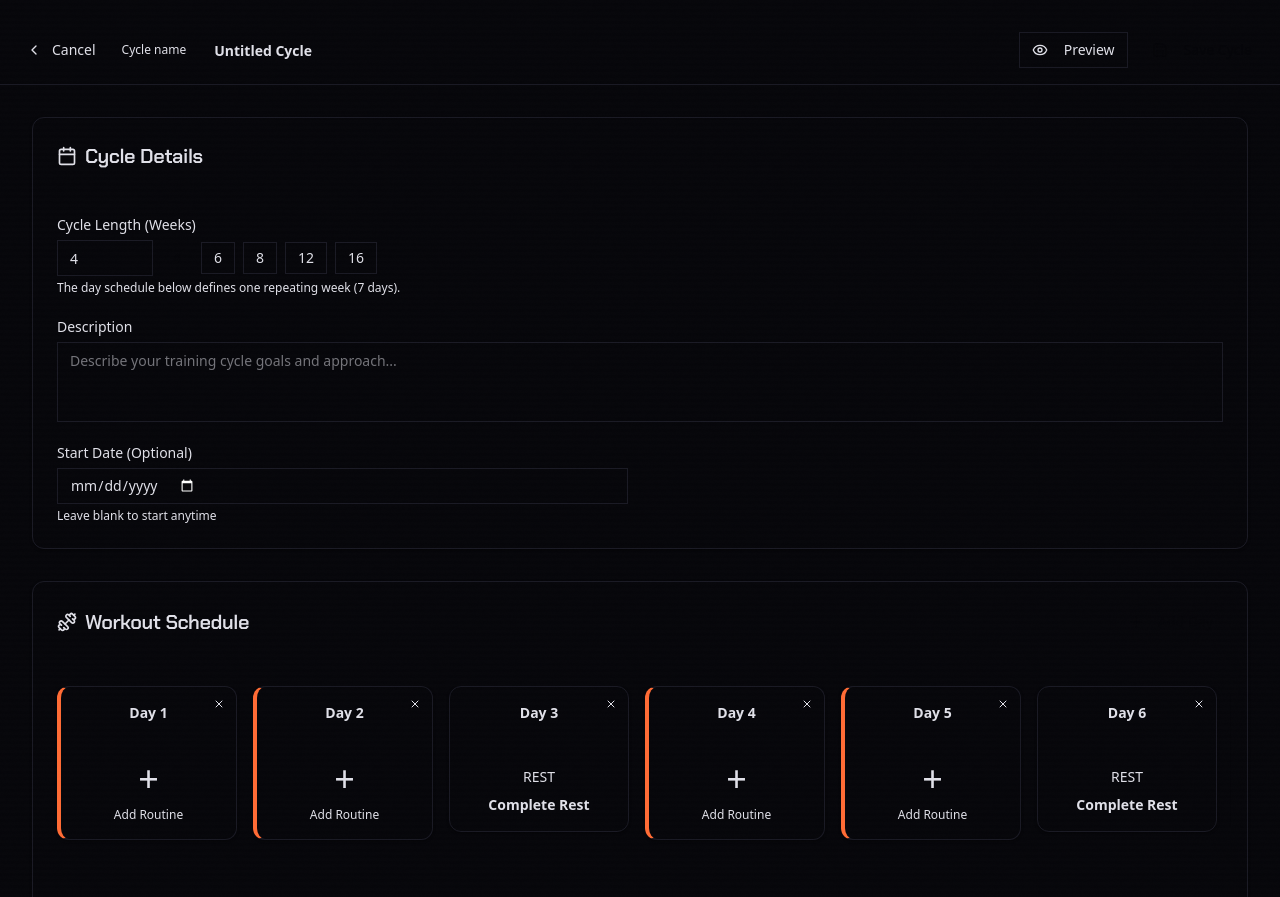
CycleBuilder › shows unsaved changes dialog when Cancel is clicked with changes
Make a change
In the field showing "Untitled Cycle": (426, 50) [202,32,650,68], type "x"
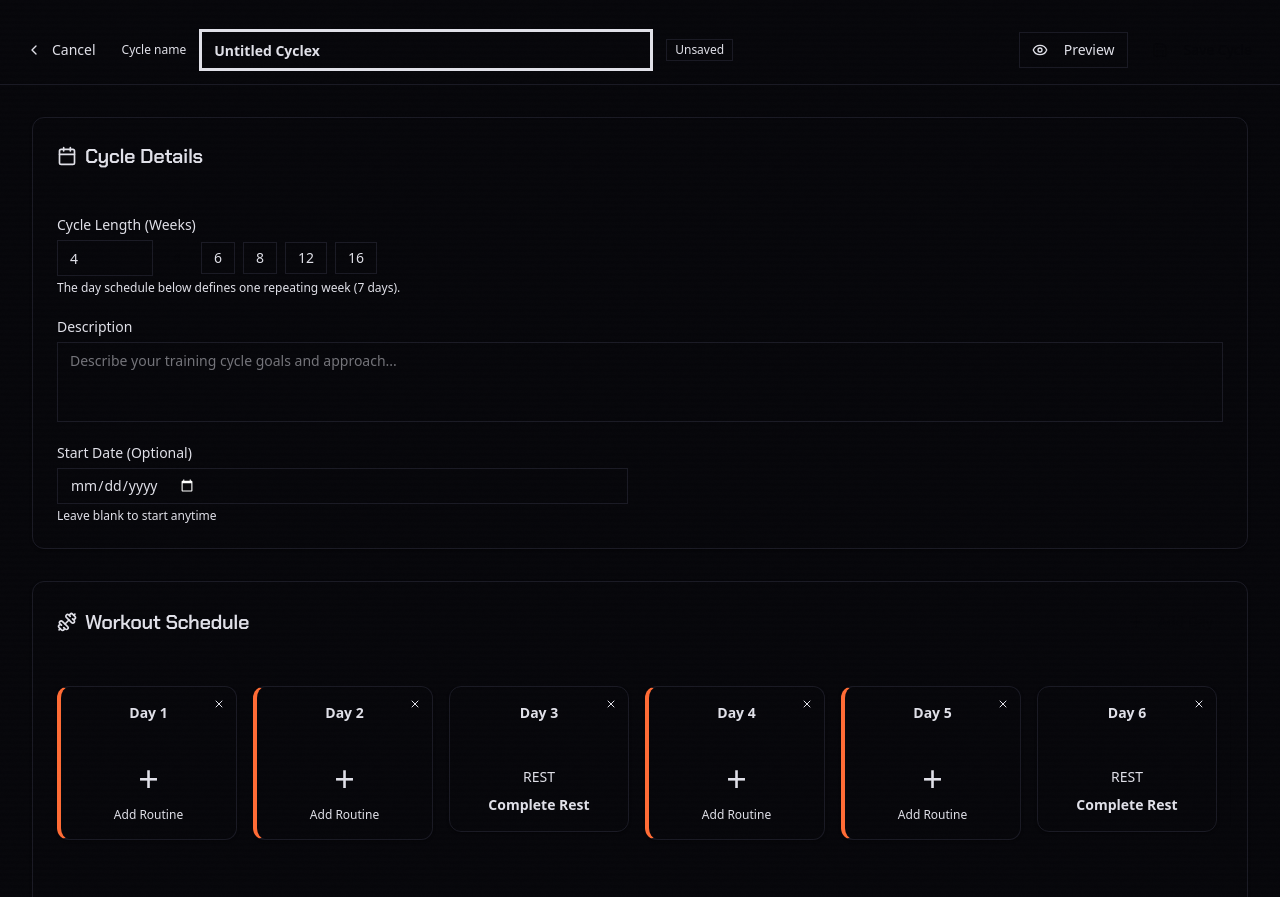
Click the button "Cancel": (61, 50) [16,34,106,66]
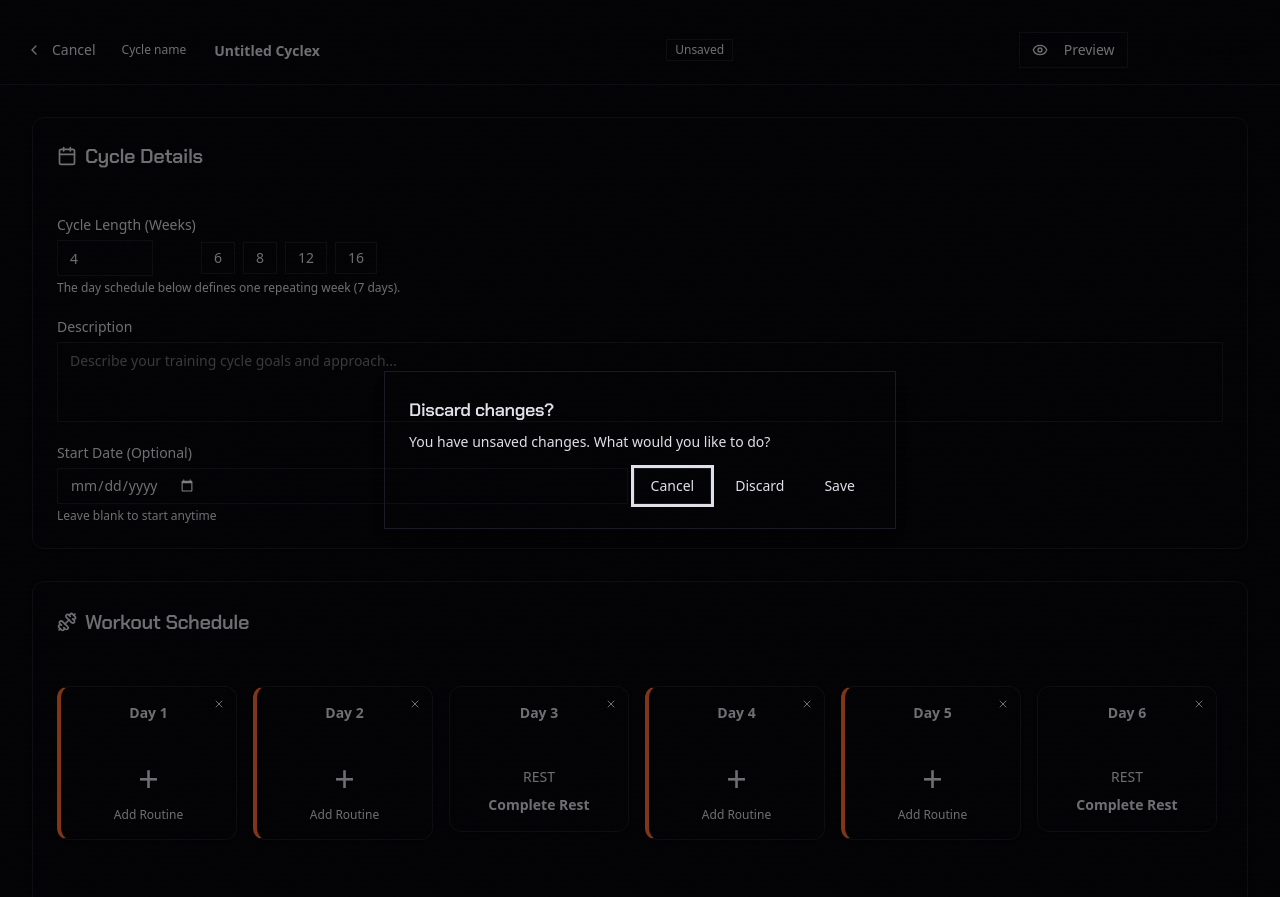
Expected: the heading "Discard changes?" is shown, [409,398,554,422]
